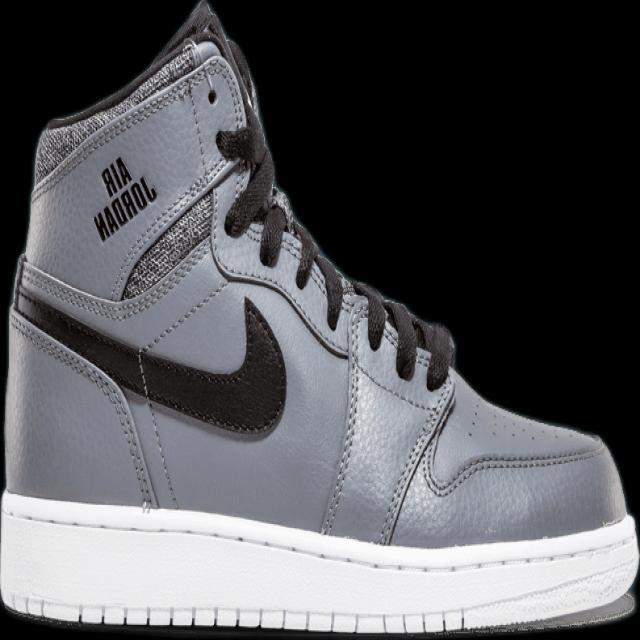J1_InsoleChar: (0, 0, 639, 638)
J1_ShoeLogo: (90, 155, 158, 243)
J1_StitchPattern: (10, 160, 457, 528), (8, 282, 287, 509), (255, 187, 456, 390), (317, 285, 457, 544), (7, 307, 156, 511), (2, 589, 637, 636), (31, 38, 203, 187), (117, 155, 240, 302), (373, 378, 457, 546), (255, 190, 347, 330), (351, 277, 457, 390), (317, 300, 366, 537), (131, 346, 182, 510), (257, 199, 289, 267)
